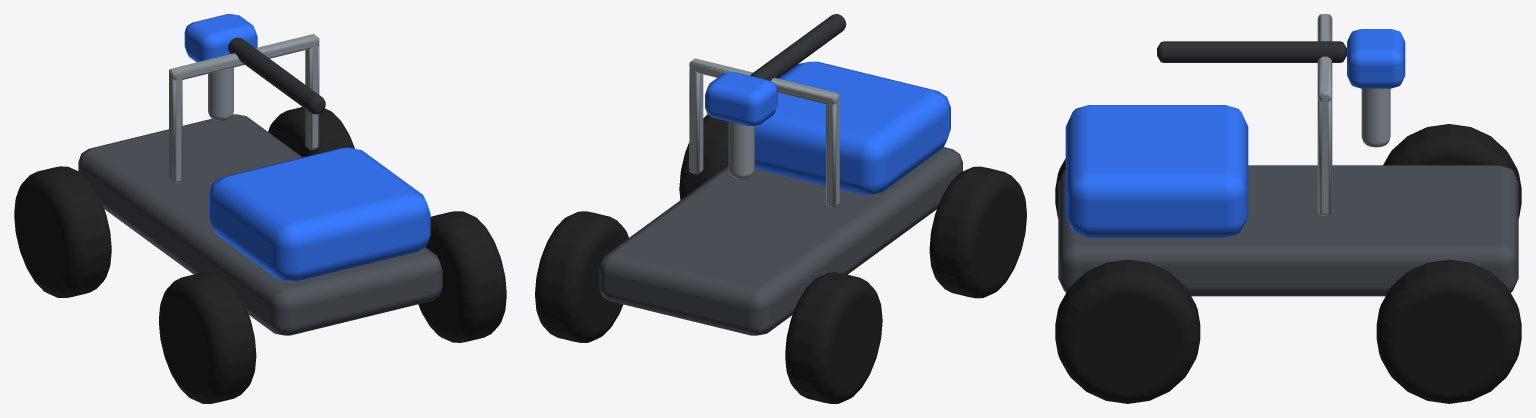
File: scout_buggy.glb
3 views of the same model, side by side, from view 1: azimuth 30°, elevation 25°; view 2: azimuth 150°, elevation 25°; view 3: azimuth 270°, elevation 25° (orthographic). The views are drawn at different scales.
Parts seen in each view (by area): view 1: scout_buggy__M_Licorice, scout_buggy__M_SmokePlastic, scout_buggy__M_Team, scout_buggy__M_SpringSteel, turret__M_Team, barrel__M_Dark, turret__M_SpringSteel; view 2: scout_buggy__M_SmokePlastic, scout_buggy__M_Licorice, scout_buggy__M_Team, scout_buggy__M_SpringSteel, turret__M_Team, barrel__M_Dark, turret__M_SpringSteel; view 3: scout_buggy__M_SmokePlastic, scout_buggy__M_Licorice, scout_buggy__M_Team, barrel__M_Dark, turret__M_Team, scout_buggy__M_SpringSteel, turret__M_SpringSteel.
Boxes of the visible parts, box(x1,y1,x2,y2) form: scout_buggy__M_Licorice: box(14, 107, 506, 403); scout_buggy__M_SmokePlastic: box(78, 114, 442, 335); scout_buggy__M_Team: box(208, 147, 430, 281); scout_buggy__M_SpringSteel: box(169, 34, 319, 182); turret__M_Team: box(184, 14, 257, 62); barrel__M_Dark: box(228, 37, 325, 114); turret__M_SpringSteel: box(208, 67, 233, 120); scout_buggy__M_SmokePlastic: box(599, 147, 962, 335); scout_buggy__M_Licorice: box(535, 114, 1026, 403); scout_buggy__M_Team: box(754, 61, 950, 194); scout_buggy__M_SpringSteel: box(689, 58, 839, 207); turret__M_Team: box(705, 72, 777, 126); barrel__M_Dark: box(750, 14, 846, 80); turret__M_SpringSteel: box(728, 121, 754, 178); scout_buggy__M_SmokePlastic: box(1058, 165, 1518, 296); scout_buggy__M_Licorice: box(1055, 124, 1521, 403); scout_buggy__M_Team: box(1065, 105, 1248, 237); barrel__M_Dark: box(1157, 41, 1346, 62); turret__M_Team: box(1347, 29, 1405, 88); scout_buggy__M_SpringSteel: box(1317, 14, 1332, 215); turret__M_SpringSteel: box(1361, 88, 1390, 147).
Bounding box in the file's own units: 0.52 × 0.4394 × 0.6387.
